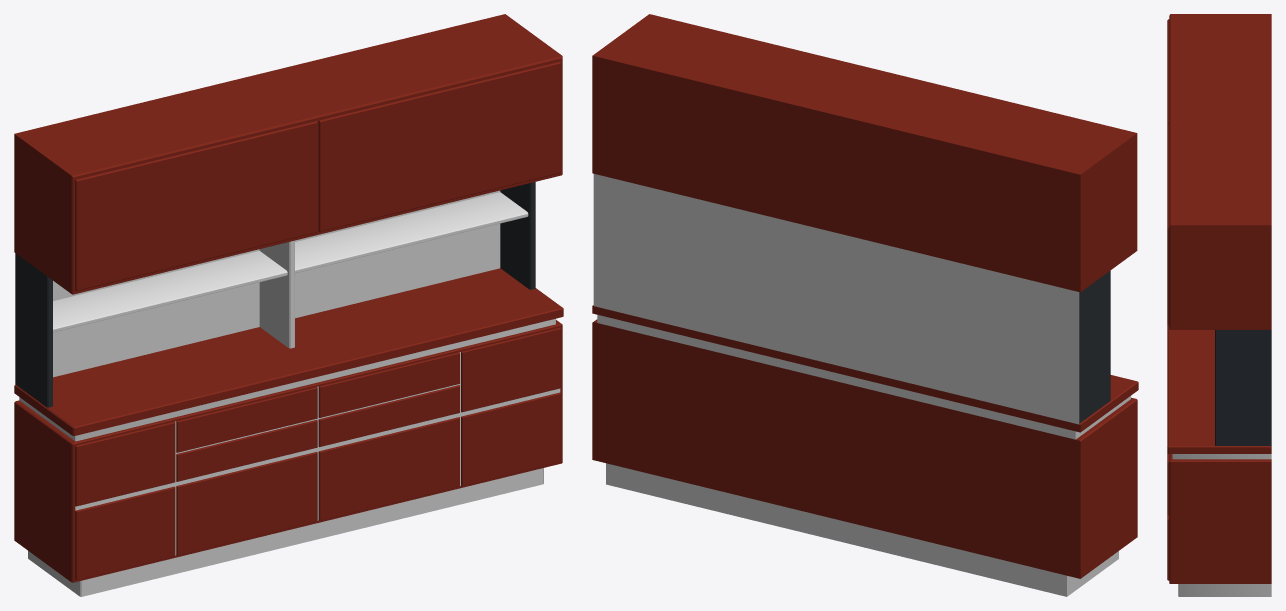
Rendered from HZTZTCU0103.FBX.
The picture shows the model from 3 angles, left to right: view 1: azimuth 30°, elevation 25°; view 2: azimuth 150°, elevation 25°; view 3: azimuth 270°, elevation 25°; orthographic projection. The views are drawn at different scales.
Visible parts, largest first — view 1: HZTZTCU0103; view 2: HZTZTCU0103; view 3: HZTZTCU0103.
Part boxes in pixels (x1,y1,x2,y2): HZTZTCU0103: [14, 14, 563, 596]; HZTZTCU0103: [592, 14, 1138, 596]; HZTZTCU0103: [1167, 14, 1271, 596].
Size of the model in its own units: 6096 by 5078 by 1270.
